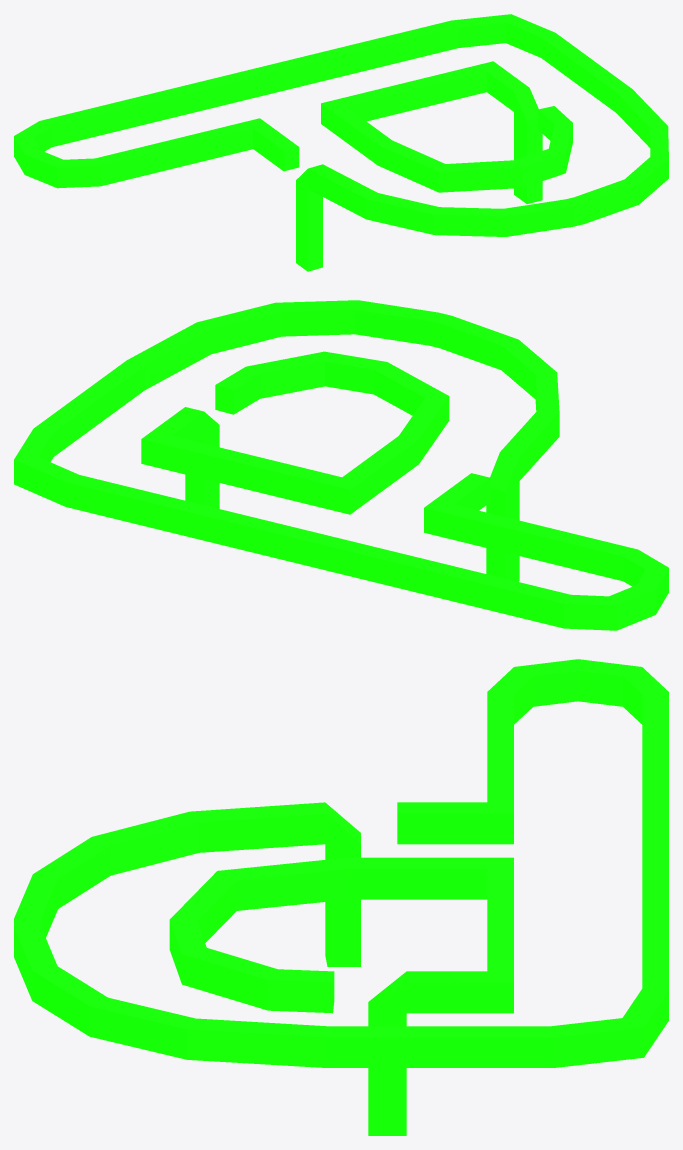
Rendered from Alphabet_3D_04_P.FBX.
3 views of the same model, one above another, from view 1: azimuth 30°, elevation 25°; view 2: azimuth 150°, elevation 25°; view 3: azimuth 270°, elevation 25° (orthographic). The views are drawn at different scales.
Visible parts, largest first — view 1: Alphabet_3D_04_P; view 2: Alphabet_3D_04_P; view 3: Alphabet_3D_04_P.
Part boxes in pixels (bbox=[...]): Alphabet_3D_04_P: bbox=[14, 14, 668, 271]; Alphabet_3D_04_P: bbox=[14, 300, 668, 630]; Alphabet_3D_04_P: bbox=[14, 659, 668, 1135].
Size of the model in its own units: 66.94 by 12.63 by 48.97.
